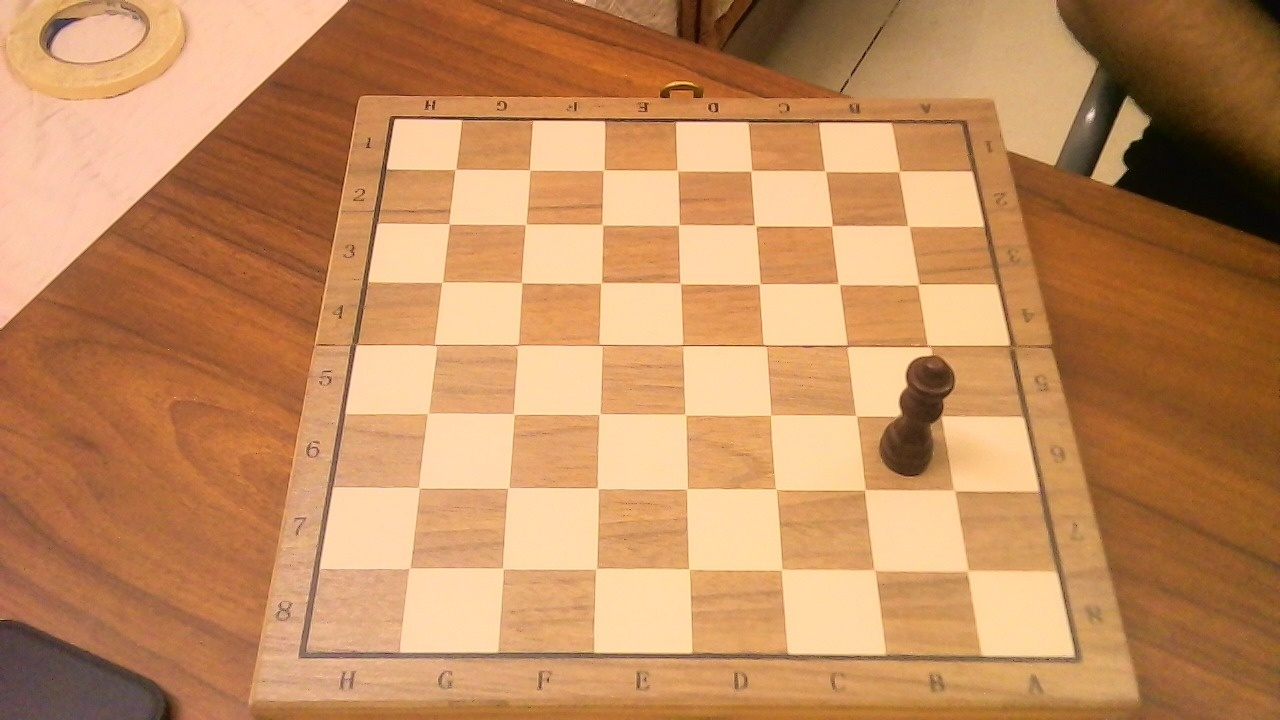q: (872, 340, 966, 480)
